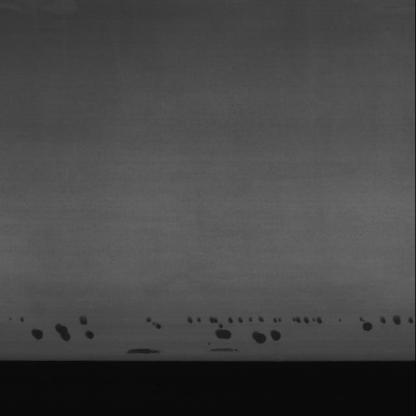oil_spot: (128, 315, 409, 330), (25, 310, 110, 344), (201, 325, 290, 349), (124, 343, 172, 357)
